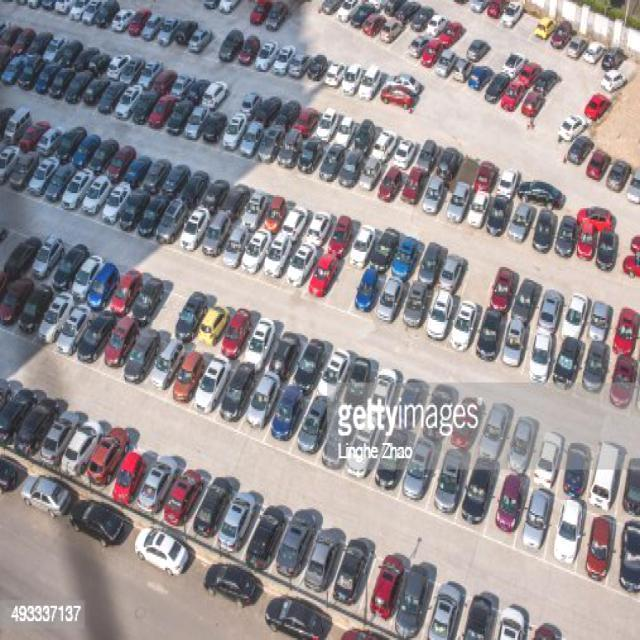space-empty: (151, 283, 183, 342), (330, 260, 365, 311), (462, 255, 494, 305), (0, 214, 28, 264), (217, 82, 247, 113), (207, 23, 232, 59), (481, 41, 511, 70), (450, 24, 475, 57), (516, 8, 536, 41), (394, 22, 416, 49), (231, 0, 248, 19)
space-occupied: (102, 434, 154, 516), (56, 406, 107, 486), (274, 499, 321, 583), (332, 529, 375, 615), (36, 396, 81, 478), (393, 559, 438, 639), (212, 481, 257, 561), (458, 460, 505, 536), (239, 494, 281, 578), (365, 536, 405, 624), (11, 387, 53, 469), (425, 451, 475, 517), (188, 472, 235, 542), (157, 462, 204, 532), (577, 510, 620, 585), (86, 423, 132, 493), (484, 475, 531, 543), (301, 514, 339, 596), (131, 452, 178, 517), (370, 426, 416, 491), (241, 370, 284, 438), (214, 358, 256, 426), (192, 354, 232, 424), (545, 496, 587, 561), (166, 343, 208, 408), (342, 412, 382, 480), (120, 323, 160, 391), (319, 406, 357, 476), (402, 437, 442, 503), (516, 488, 556, 553), (99, 312, 139, 377), (475, 394, 512, 464), (83, 256, 122, 321), (423, 576, 463, 639), (589, 444, 626, 509), (419, 379, 456, 444), (557, 431, 592, 499), (447, 387, 482, 455), (290, 332, 326, 397), (296, 394, 333, 457), (147, 337, 184, 400), (0, 376, 33, 446), (55, 297, 94, 356), (391, 373, 426, 438), (363, 363, 398, 428), (75, 306, 112, 367), (531, 423, 563, 493), (31, 229, 67, 289), (611, 519, 639, 595), (503, 419, 539, 478), (463, 580, 499, 639), (35, 293, 75, 346), (195, 295, 230, 355), (340, 349, 373, 412), (318, 341, 351, 404), (550, 333, 585, 392), (4, 228, 40, 285), (279, 244, 319, 295), (270, 380, 302, 443), (605, 357, 640, 414), (577, 338, 612, 395), (424, 289, 461, 342), (0, 277, 32, 338), (219, 300, 249, 365), (352, 261, 387, 316), (266, 326, 298, 385), (52, 239, 84, 298), (177, 289, 210, 346), (238, 229, 273, 282), (445, 299, 481, 350), (70, 246, 102, 303), (39, 161, 79, 206), (155, 198, 190, 249), (485, 261, 520, 312), (109, 265, 140, 322), (401, 278, 432, 335), (532, 278, 563, 335), (372, 272, 405, 325), (506, 270, 539, 323), (325, 207, 358, 260), (24, 283, 54, 340), (129, 272, 161, 325), (524, 328, 556, 381), (557, 285, 589, 338), (178, 207, 213, 255), (57, 166, 94, 211), (101, 179, 132, 232), (584, 293, 615, 346), (612, 300, 639, 360), (369, 220, 401, 270), (242, 315, 270, 372), (477, 309, 505, 366), (310, 250, 340, 303), (221, 222, 251, 275), (388, 227, 419, 278), (499, 319, 531, 367), (117, 187, 149, 235), (264, 232, 294, 283), (302, 200, 332, 251), (198, 215, 231, 261), (7, 150, 43, 192), (436, 245, 464, 298), (571, 217, 604, 261), (137, 194, 167, 242), (485, 188, 515, 236), (443, 176, 473, 224), (419, 169, 446, 222), (505, 196, 537, 240), (81, 175, 112, 220), (592, 230, 625, 272), (27, 152, 57, 198), (253, 115, 280, 166), (528, 205, 559, 249), (280, 195, 308, 243), (293, 132, 321, 180), (348, 216, 375, 264), (275, 123, 302, 171), (388, 128, 420, 168), (238, 114, 263, 165), (377, 156, 402, 206), (335, 145, 360, 195), (116, 78, 142, 126), (261, 189, 289, 233), (219, 177, 247, 221), (162, 157, 190, 201), (397, 168, 425, 212), (129, 85, 157, 129), (553, 112, 588, 147), (17, 117, 49, 155), (242, 182, 267, 230), (318, 143, 343, 191), (180, 101, 210, 141), (97, 71, 123, 117), (65, 65, 91, 111), (118, 151, 149, 189), (382, 86, 420, 117), (552, 213, 580, 255), (147, 90, 175, 132), (18, 54, 46, 96), (416, 240, 443, 282), (35, 123, 67, 158), (0, 106, 32, 141), (167, 63, 195, 103), (217, 24, 245, 64), (78, 69, 107, 107), (468, 184, 493, 228), (187, 16, 212, 60), (157, 9, 182, 53), (356, 152, 382, 194), (71, 134, 102, 169), (142, 155, 172, 191), (200, 74, 230, 110), (232, 29, 262, 65), (434, 142, 462, 180), (370, 119, 398, 157), (358, 66, 386, 104), (605, 152, 627, 200), (219, 111, 244, 153), (352, 113, 377, 155), (47, 64, 73, 104), (0, 52, 26, 92), (106, 144, 134, 180), (564, 133, 592, 169), (582, 96, 610, 132), (202, 172, 227, 212), (182, 167, 207, 207), (167, 95, 192, 135), (473, 152, 498, 192), (295, 95, 320, 135), (584, 144, 609, 184), (10, 24, 42, 55), (38, 27, 68, 60), (89, 140, 117, 175), (126, 8, 154, 43), (56, 127, 83, 163), (305, 49, 332, 85), (138, 8, 165, 44), (109, 5, 140, 36), (236, 82, 262, 118), (139, 53, 165, 89), (324, 56, 350, 92), (518, 51, 544, 87), (625, 453, 639, 519), (273, 94, 301, 127), (173, 10, 195, 52), (152, 60, 179, 94), (534, 12, 560, 47), (200, 110, 225, 146), (33, 60, 58, 96), (341, 60, 366, 96), (552, 18, 577, 54), (499, 78, 526, 111), (0, 136, 19, 181), (531, 64, 556, 98), (494, 166, 522, 196), (53, 32, 81, 62), (183, 73, 210, 104), (314, 106, 337, 142), (289, 47, 312, 83), (252, 38, 275, 74), (505, 48, 531, 79), (593, 70, 625, 95), (92, 0, 124, 25), (415, 138, 437, 174), (258, 90, 283, 121), (362, 8, 387, 39), (272, 42, 292, 80), (74, 34, 97, 67), (467, 58, 490, 91), (347, 2, 370, 35), (378, 16, 403, 46), (388, 68, 423, 89), (27, 26, 52, 55), (336, 110, 356, 146), (486, 68, 506, 104), (520, 90, 543, 121), (123, 51, 145, 82), (248, 0, 273, 27), (439, 18, 462, 47), (468, 33, 489, 64), (600, 49, 631, 70), (579, 43, 605, 68), (565, 34, 591, 59), (499, 0, 525, 25), (107, 46, 129, 75), (429, 10, 450, 40), (434, 47, 459, 72), (90, 43, 113, 70), (269, 5, 292, 32), (421, 40, 442, 69), (0, 18, 20, 48), (80, 0, 102, 27), (407, 31, 427, 60), (411, 5, 434, 30), (450, 54, 472, 79), (628, 167, 639, 215)
